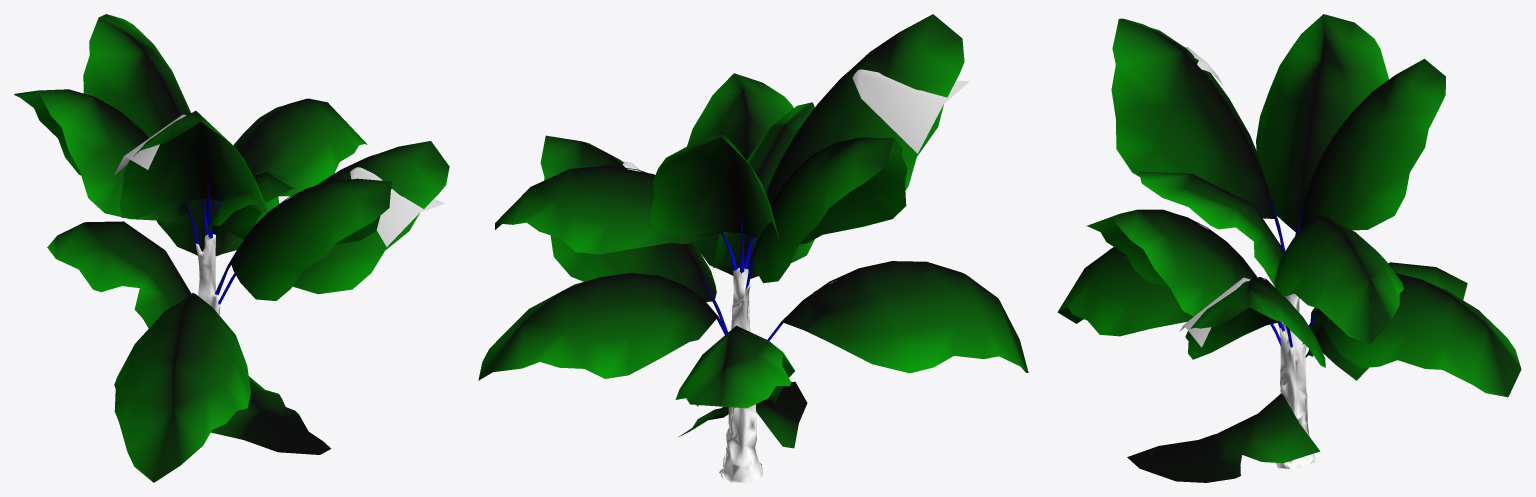
Rendered from CoconutPalmTree03_afsTREE_xlprl06_xlod02.fbx.
3 views of the same model, side by side, from view 1: azimuth 30°, elevation 25°; view 2: azimuth 150°, elevation 25°; view 3: azimuth 270°, elevation 25° (orthographic). The views are drawn at different scales.
Parts seen in each view (by area): view 1: PalmBranch01_xw03_xt05_xlp00, PalmBranch01_xw04_xt06_xlp00, PalmBranch01_xw08_xt06_xlp00, PalmBranch01_xw07_xt07_xlp00, PalmBranch01_xw09_xt08_xlp00, DeadPalmBranch_xw02_xt03_xlp02_xp03, PalmBranch01_xw06_xt06_xlp00, PalmBranch01_xw06_xt05_xlp00, DeadPalmBranch_xw00_xt00_xlp00, DeadPalmBranch_xw04_xt08_xlp05_xp04, PalmBranch01_xw04_xt06_xlp00.001, PalmBlade02_bent_right_xw03_xt05_xlp05.001 (+2 smaller); view 2: PalmBranch01_xw03_xt05_xlp00, PalmBranch01_xw04_xt06_xlp00.001, PalmBranch01_xw07_xt07_xlp00, PalmBranch01_xw08_xt06_xlp00, PalmBranch01_xw06_xt06_xlp00, PalmBranch01_xw09_xt08_xlp00, PalmBranch01_xw06_xt05_xlp00, DeadPalmBranch_xw02_xt03_xlp02_xp03, PalmBranch01_xw04_xt06_xlp00, PalmBlade02_bent_right_xw03_xt05_xlp05, trunk_CoconutPalmTree03_xw04_xt03_xlp05, DeadPalmBranch_xw04_xt08_xlp05_xp04 (+1 smaller); view 3: PalmBranch01_xw08_xt06_xlp00, PalmBranch01_xw07_xt07_xlp00, PalmBranch01_xw09_xt08_xlp00, PalmBranch01_xw04_xt06_xlp00.001, PalmBranch01_xw06_xt06_xlp00, PalmBranch01_xw04_xt06_xlp00, DeadPalmBranch_xw00_xt00_xlp00, PalmBranch01_xw03_xt05_xlp00, PalmBranch01_xw06_xt05_xlp00, DeadPalmBranch_xw04_xt08_xlp05_xp04, trunk_CoconutPalmTree03_xw04_xt03_xlp05, DeadPalmBranch_xw02_xt03_xlp02_xp03 (+2 smaller).
Boxes of the visible parts, bbox=[...] form: PalmBranch01_xw03_xt05_xlp00: bbox=[114, 293, 250, 482]; PalmBranch01_xw04_xt06_xlp00: bbox=[231, 178, 392, 300]; PalmBranch01_xw08_xt06_xlp00: bbox=[119, 111, 267, 218]; PalmBranch01_xw07_xt07_xlp00: bbox=[14, 89, 188, 223]; PalmBranch01_xw09_xt08_xlp00: bbox=[83, 14, 190, 137]; DeadPalmBranch_xw02_xt03_xlp02_xp03: bbox=[47, 221, 191, 328]; PalmBranch01_xw06_xt06_xlp00: bbox=[233, 98, 367, 196]; PalmBranch01_xw06_xt05_xlp00: bbox=[293, 141, 449, 294]; DeadPalmBranch_xw00_xt00_xlp00: bbox=[211, 376, 330, 454]; DeadPalmBranch_xw04_xt08_xlp05_xp04: bbox=[206, 172, 303, 239]; PalmBranch01_xw04_xt06_xlp00.001: bbox=[156, 196, 279, 256]; PalmBlade02_bent_right_xw03_xt05_xlp05.001: bbox=[350, 167, 445, 246]; PalmBranch01_xw03_xt05_xlp00: bbox=[783, 261, 1028, 373]; PalmBranch01_xw04_xt06_xlp00.001: bbox=[478, 274, 716, 380]; PalmBranch01_xw07_xt07_xlp00: bbox=[752, 137, 907, 283]; PalmBranch01_xw08_xt06_xlp00: bbox=[767, 14, 964, 205]; PalmBranch01_xw06_xt06_xlp00: bbox=[495, 166, 720, 254]; PalmBranch01_xw09_xt08_xlp00: bbox=[650, 132, 778, 239]; PalmBranch01_xw06_xt05_xlp00: bbox=[540, 135, 716, 301]; DeadPalmBranch_xw02_xt03_xlp02_xp03: bbox=[675, 325, 794, 408]; PalmBranch01_xw04_xt06_xlp00: bbox=[687, 73, 814, 278]; PalmBlade02_bent_right_xw03_xt05_xlp05: bbox=[852, 69, 969, 153]; trunk_CoconutPalmTree03_xw04_xt03_xlp05: bbox=[719, 267, 762, 482]; DeadPalmBranch_xw04_xt08_xlp05_xp04: bbox=[713, 102, 814, 268]; PalmBranch01_xw08_xt06_xlp00: bbox=[1111, 18, 1276, 218]; PalmBranch01_xw07_xt07_xlp00: bbox=[1256, 14, 1388, 232]; PalmBranch01_xw09_xt08_xlp00: bbox=[1299, 59, 1445, 230]; PalmBranch01_xw04_xt06_xlp00.001: bbox=[1318, 274, 1521, 397]; PalmBranch01_xw06_xt06_xlp00: bbox=[1274, 216, 1403, 343]; PalmBranch01_xw04_xt06_xlp00: bbox=[1086, 209, 1255, 316]; DeadPalmBranch_xw00_xt00_xlp00: bbox=[1127, 393, 1320, 482]; PalmBranch01_xw03_xt05_xlp00: bbox=[1057, 247, 1193, 336]; PalmBranch01_xw06_xt05_xlp00: bbox=[1185, 277, 1325, 367]; DeadPalmBranch_xw04_xt08_xlp05_xp04: bbox=[1139, 171, 1284, 287]; trunk_CoconutPalmTree03_xw04_xt03_xlp05: bbox=[1276, 293, 1315, 468]; DeadPalmBranch_xw02_xt03_xlp02_xp03: bbox=[1305, 262, 1467, 380].
Size of what is drawn, in the model's own units: 5.81 by 6.06 by 5.69.
